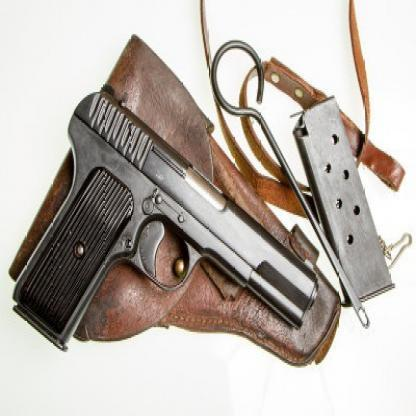Pistol: (11, 81, 319, 349)
